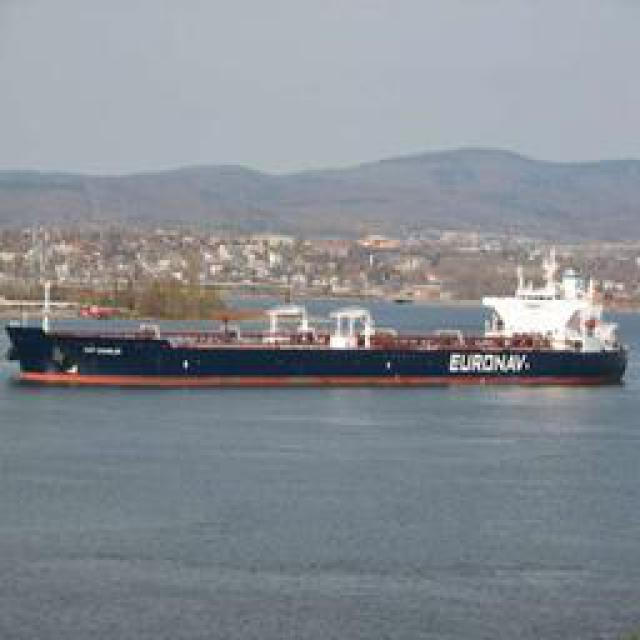Ship: (41, 291, 626, 386)
